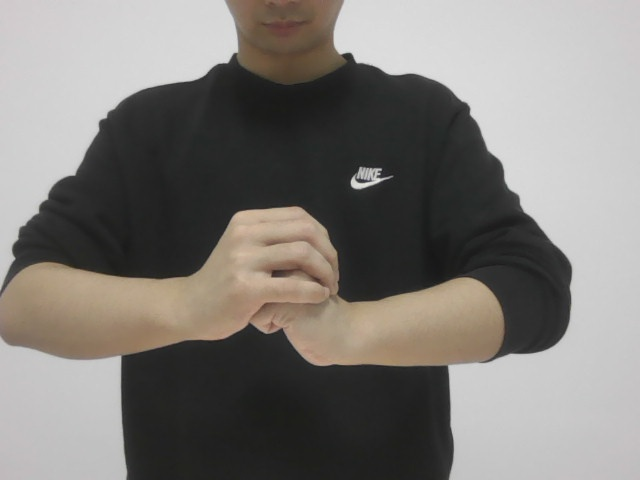wish: (188, 195, 362, 374)
